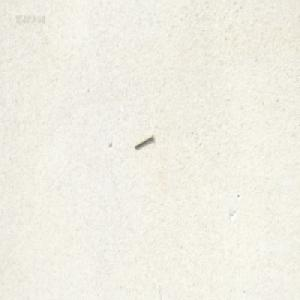Bolt: (134, 132, 154, 149)
